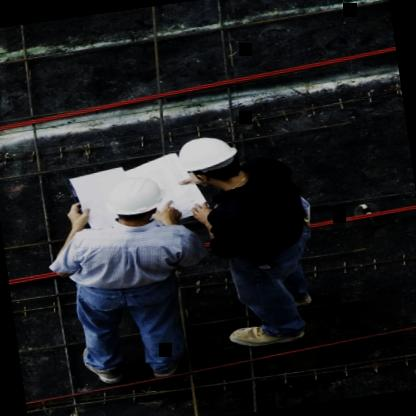helmet: (168, 124, 256, 204), (96, 162, 184, 238)
